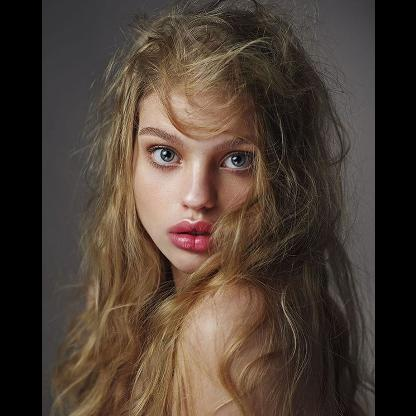Female: (132, 74, 262, 270)
